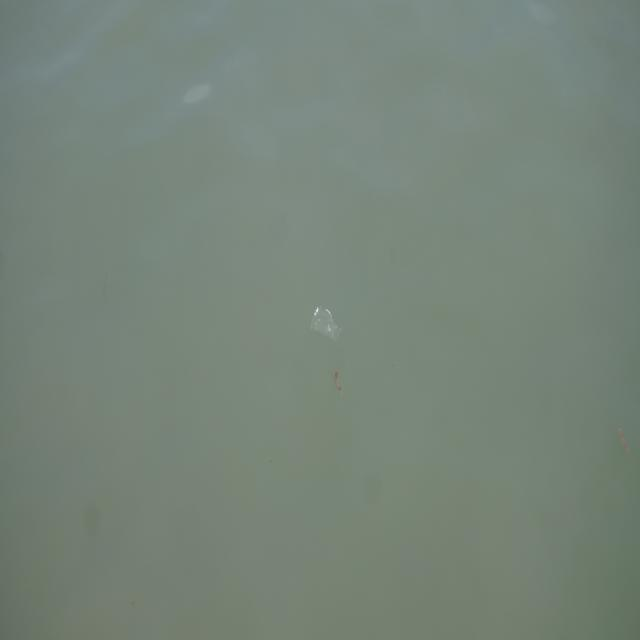Kantong Plastik: (308, 298, 345, 350)
